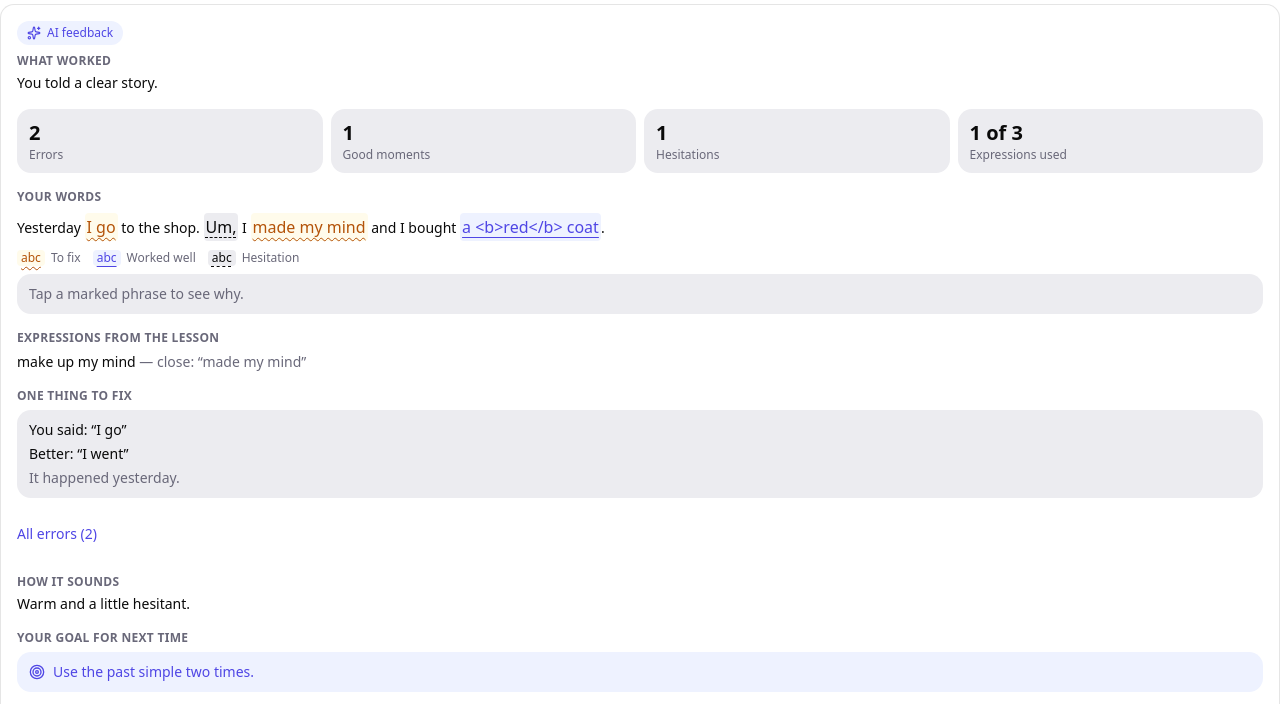
Test: a finished analysis › draws markup inside a quote and a note as text, never as elements
The image size is (1280, 704).
Click the button "a <b>red</b> coat".
click(530, 227)  # box [460, 213, 601, 241]
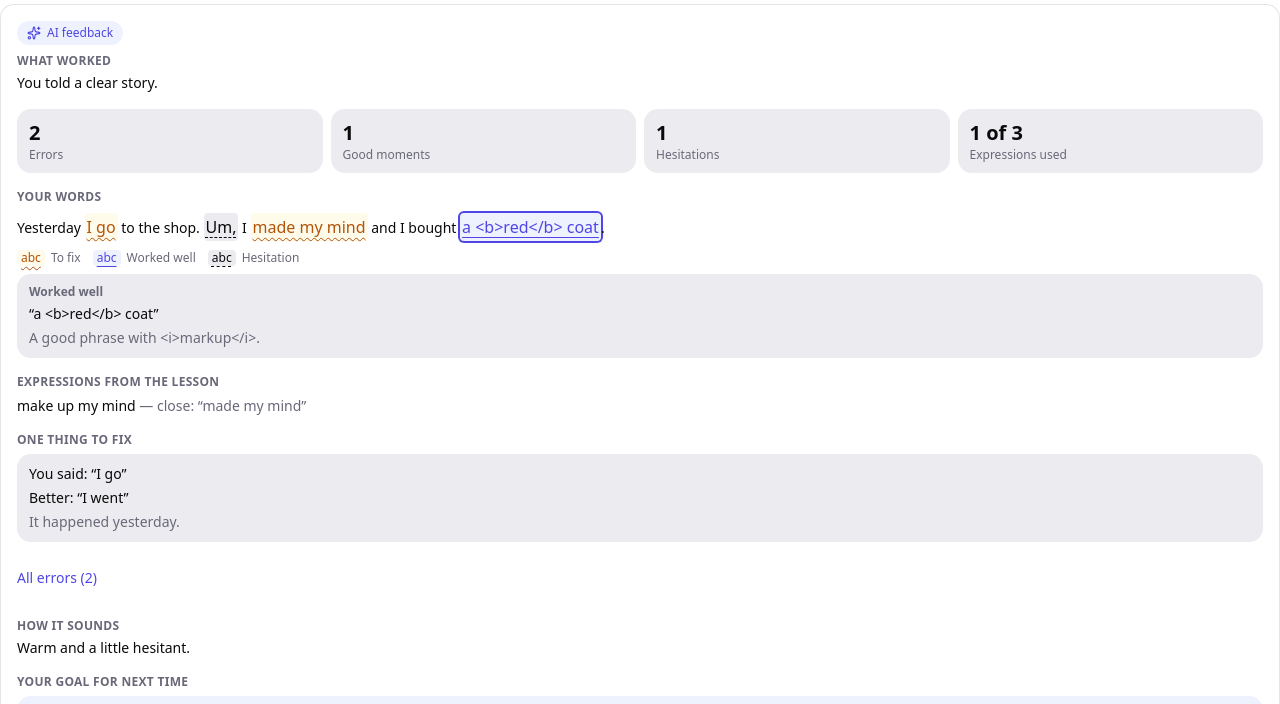
Now the text "A good phrase with <i>markup</i>." is shown, box [29, 328, 260, 347]
